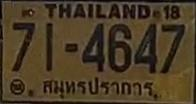1: (45, 22, 52, 70)
4: (134, 22, 156, 72), (82, 22, 104, 71)
6: (108, 23, 130, 71)
7: (160, 23, 184, 73), (11, 21, 34, 71)
SPK: (40, 74, 156, 103)
